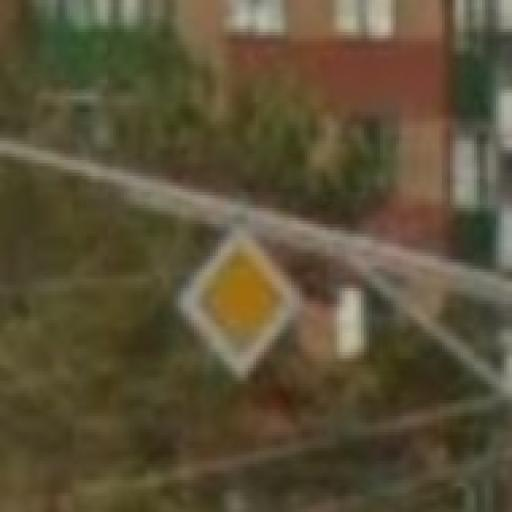traffic_sign: (174, 222, 306, 388)
